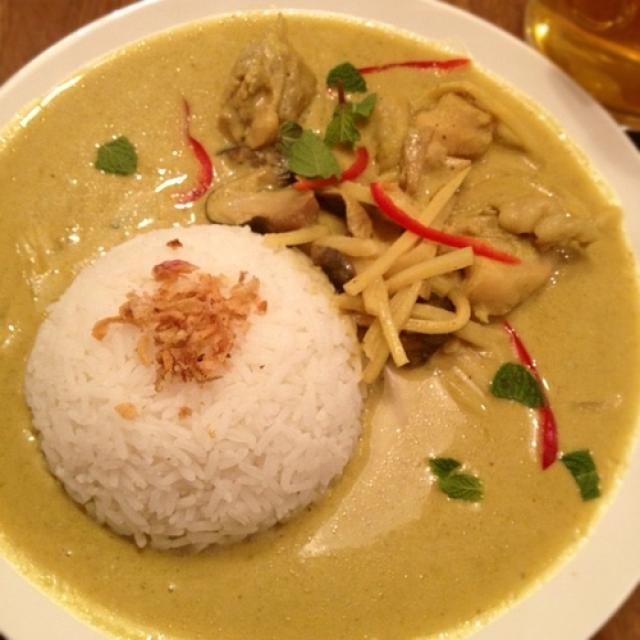面条主食: (96, 124, 587, 508)
